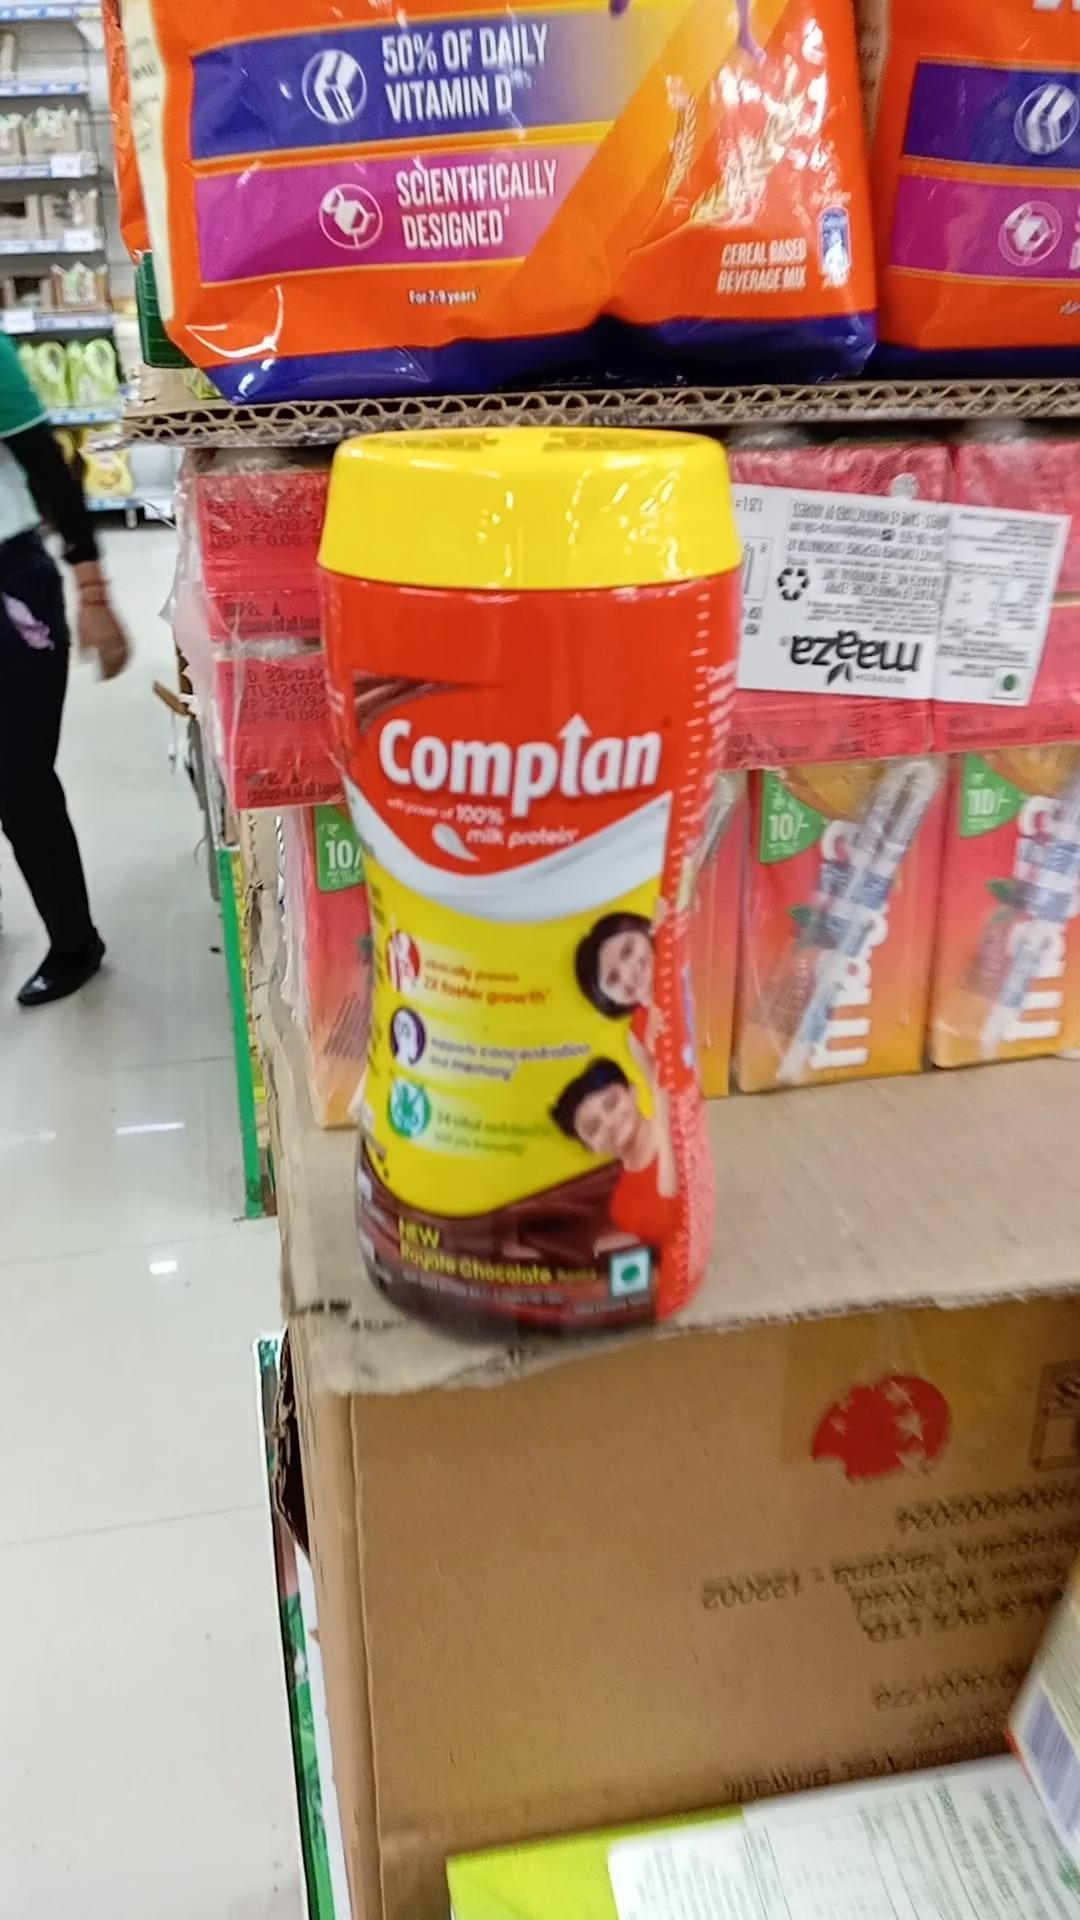COMPLAN_CHOCOLATE_200_GMS_JAR: (335, 443, 700, 1331)
